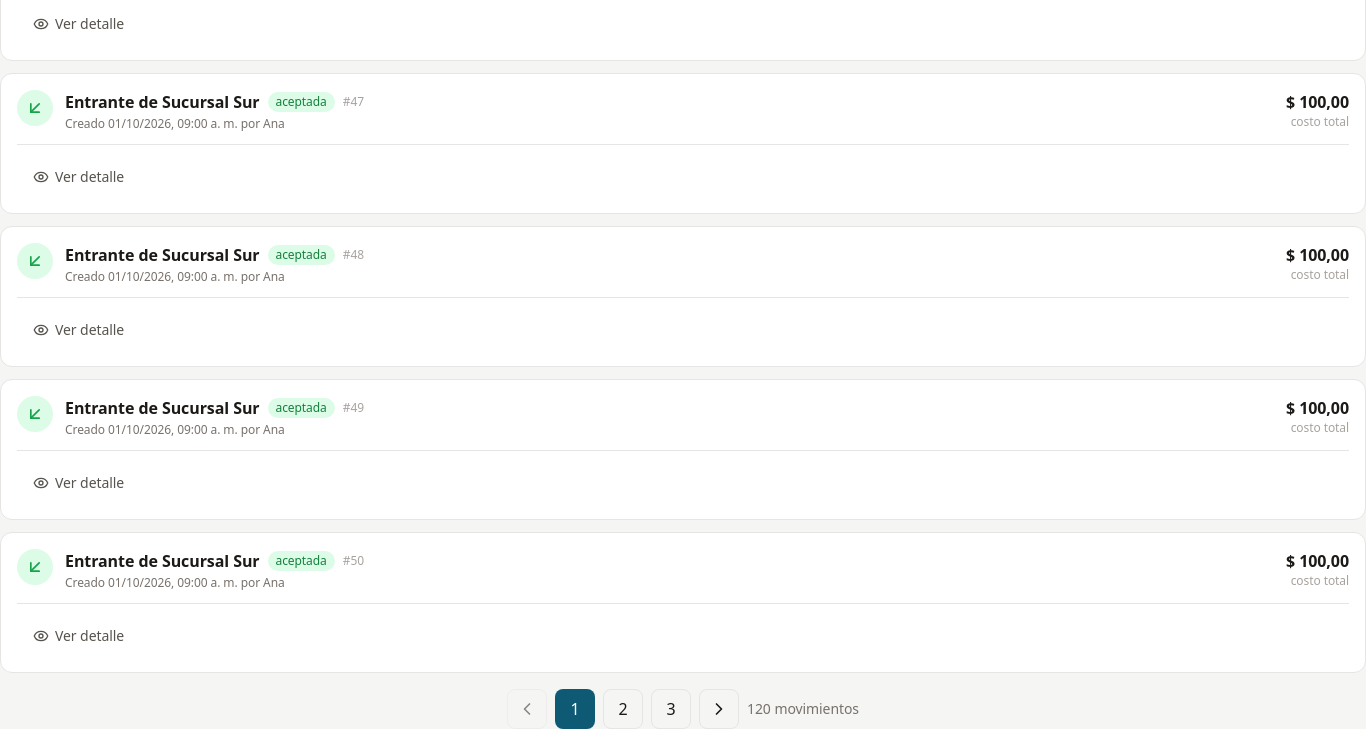
Test case: MovimientosContainer — volver a la pagina 1 › cambiar de pestaña desde la pagina 3 vuelve a la 1 de la pestaña nueva
This screenshot has width=1366, height=729.
(page scrolled)
Click the button named "Página 3".
click(671, 709)  # box [651,689,691,728]
(page scrolled)
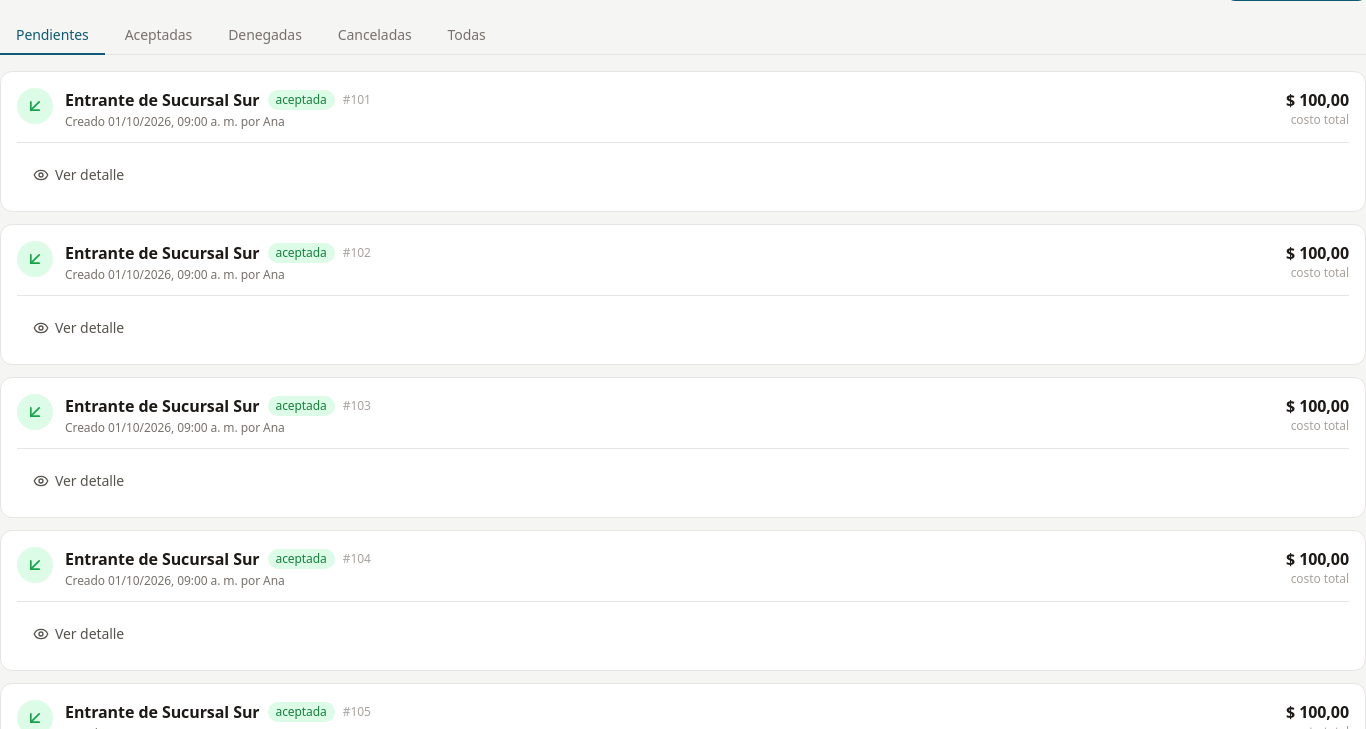
Click the button "Aceptadas".
click(158, 36)  # box [109,17,208,55]
(page scrolled)
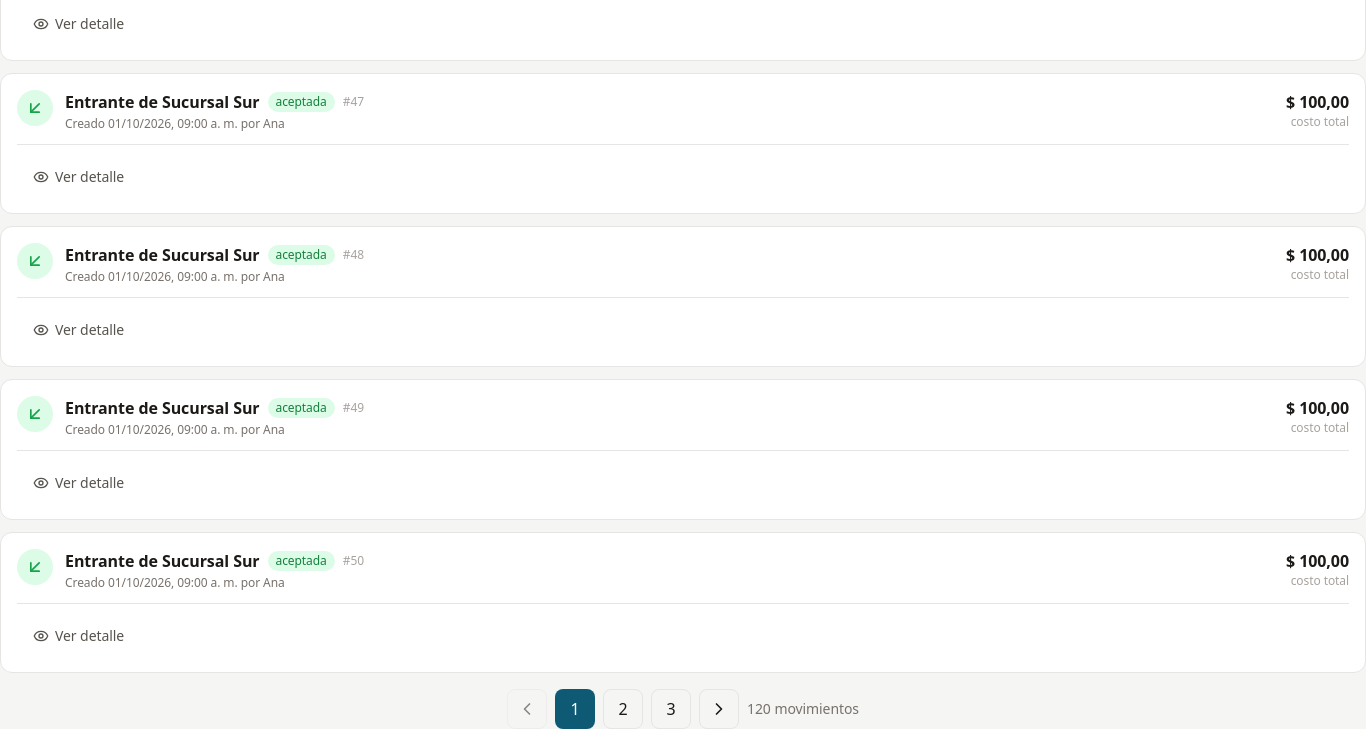
Expected: the button named "Página anterior" is disabled, [507,689,547,728]
